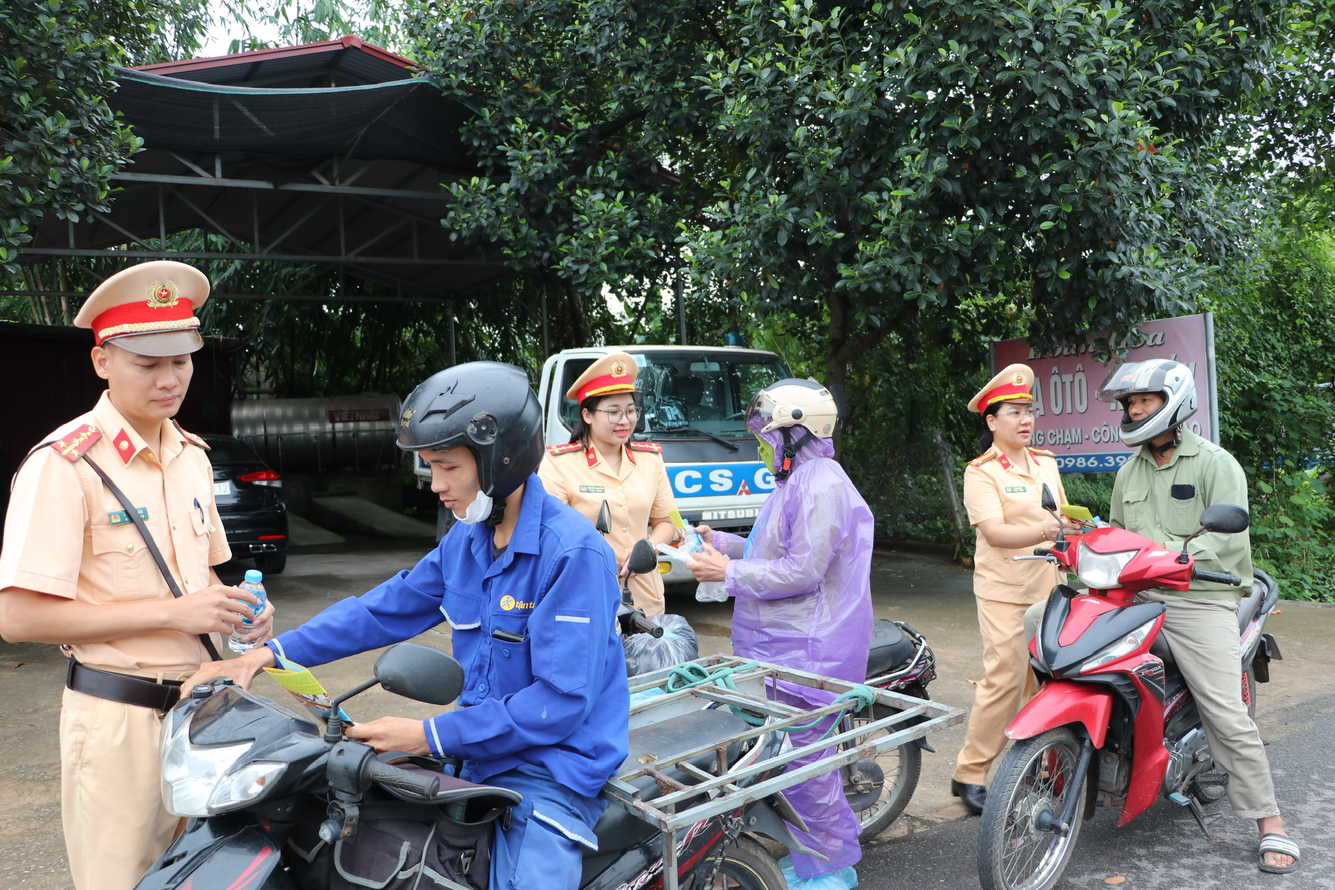oto: (544, 343, 844, 611), (538, 344, 837, 611)
xe_may: (136, 599, 935, 890), (966, 483, 1284, 883)
